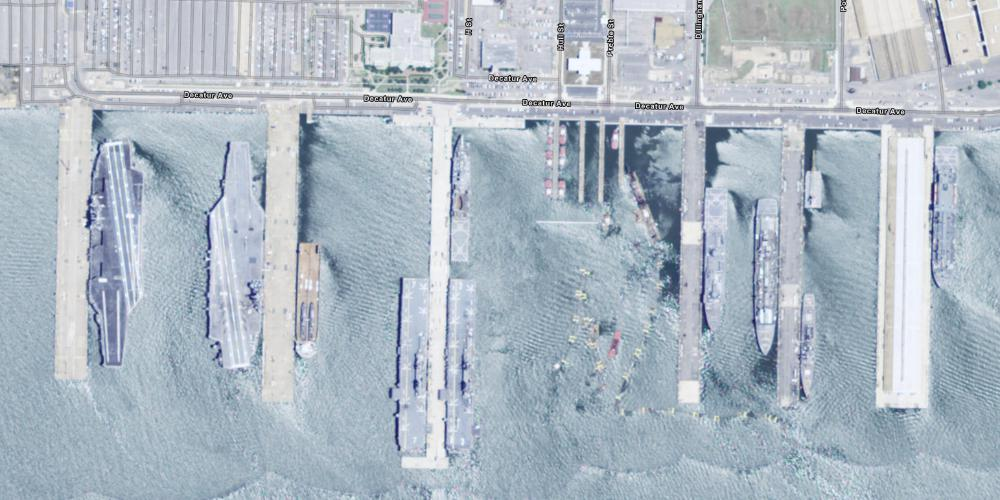cruiser: (799, 291, 823, 408)
pha: (442, 278, 481, 466), (396, 271, 430, 460)
tender: (930, 142, 965, 296), (754, 192, 784, 361)
